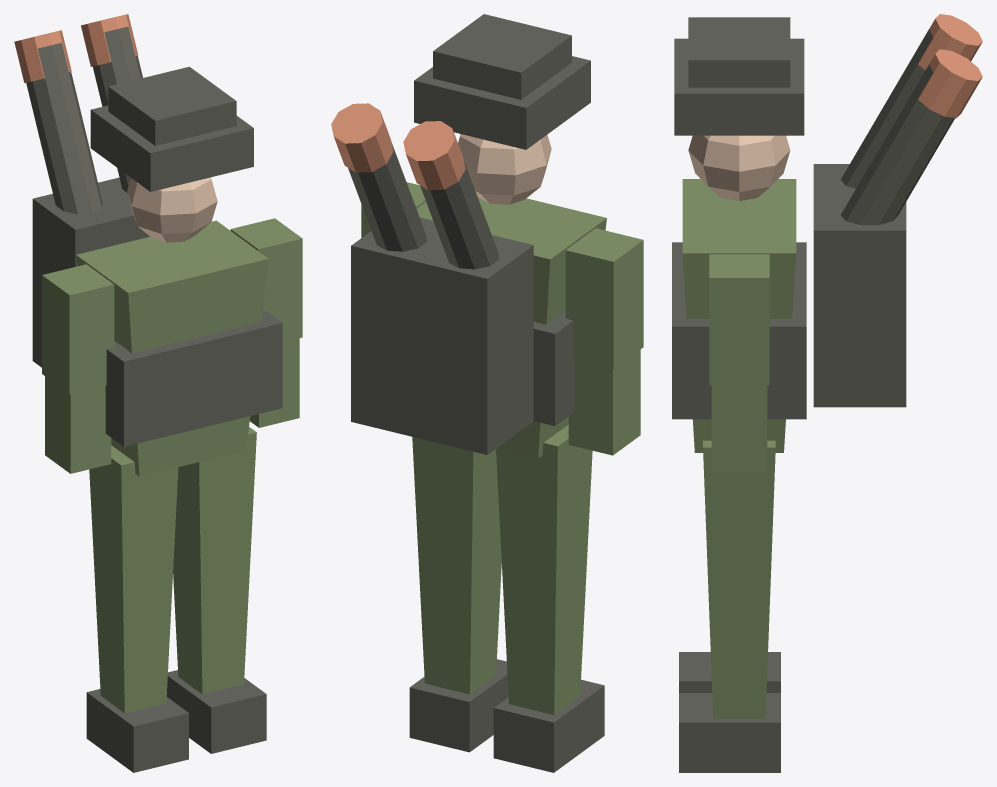
File: unit_rocket_rigged.glb
3 views of the same model, side by side, from view 1: azimuth 30°, elevation 25°; view 2: azimuth 150°, elevation 25°; view 3: azimuth 270°, elevation 25° (orthographic). The views are drawn at different scales.
Parts seen in each view (by area): view 1: accent_torso, body_torso, body_leg-right, body_leg-left, accent_head, body_arm-right, accent_leg-right, accent_leg-left, body_elbow-right, body_arm-left, skin_head, trim_torso (+1 smaller); view 2: accent_torso, body_leg-right, body_leg-left, accent_head, body_arm-right, body_torso, accent_leg-right, trim_torso, body_elbow-right, accent_leg-left, skin_head; view 3: accent_torso, body_leg-left, accent_head, body_torso, body_arm-left, accent_leg-left, skin_head, body_elbow-left, trim_torso, accent_leg-right.
Part boxes in pixels (<box>): accent_torso: <box>26,26,282,446</box>; body_torso: <box>76,220,268,476</box>; body_leg-right: <box>89,445,178,713</box>; body_leg-left: <box>173,427,256,694</box>; accent_head: <box>90,66,253,191</box>; body_arm-right: <box>42,264,114,393</box>; accent_leg-right: <box>86,689,188,772</box>; accent_leg-left: <box>166,670,266,753</box>; body_elbow-right: <box>45,376,111,473</box>; body_arm-left: <box>230,218,302,341</box>; skin_head: <box>127,177,217,242</box>; trim_torso: <box>14,14,138,82</box>; accent_torso: <box>348,144,574,454</box>; body_leg-right: <box>496,424,592,714</box>; body_leg-left: <box>412,437,501,694</box>; accent_head: <box>414,14,590,149</box>; body_arm-right: <box>565,228,643,368</box>; body_torso: <box>416,197,606,458</box>; accent_leg-right: <box>493,679,604,772</box>; trim_torso: <box>331,103,465,190</box>; body_elbow-right: <box>568,350,640,455</box>; accent_leg-left: <box>409,659,508,752</box>; skin_head: <box>458,134,551,204</box>; accent_torso: <box>672,29,954,419</box>; body_leg-left: <box>703,440,775,718</box>; accent_head: <box>674,17,804,135</box>; body_torso: <box>682,179,796,452</box>; body_arm-left: <box>709,254,769,385</box>; accent_leg-left: <box>679,693,780,772</box>; skin_head: <box>688,135,790,200</box>; body_elbow-left: <box>711,385,767,472</box>; trim_torso: <box>918,14,982,118</box>; accent_leg-right: <box>679,652,780,692</box>.
Size of the model in its own units: 1.1 by 2.91 by 1.17.
